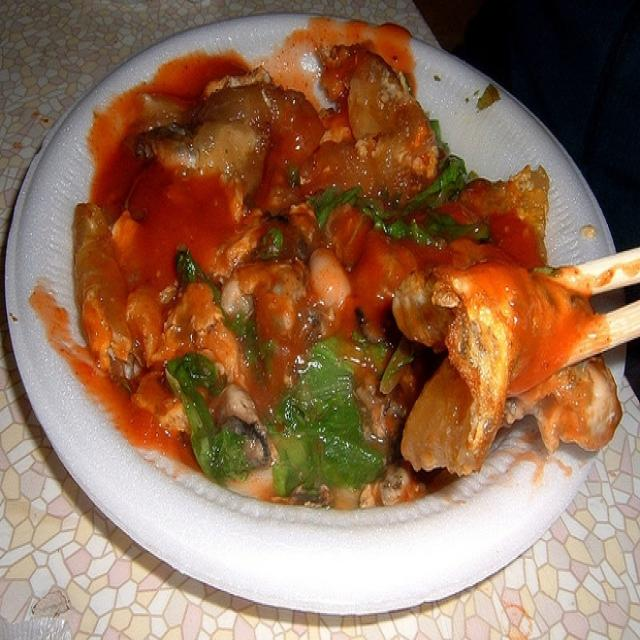熟制海鲜: (3, 13, 619, 613)
